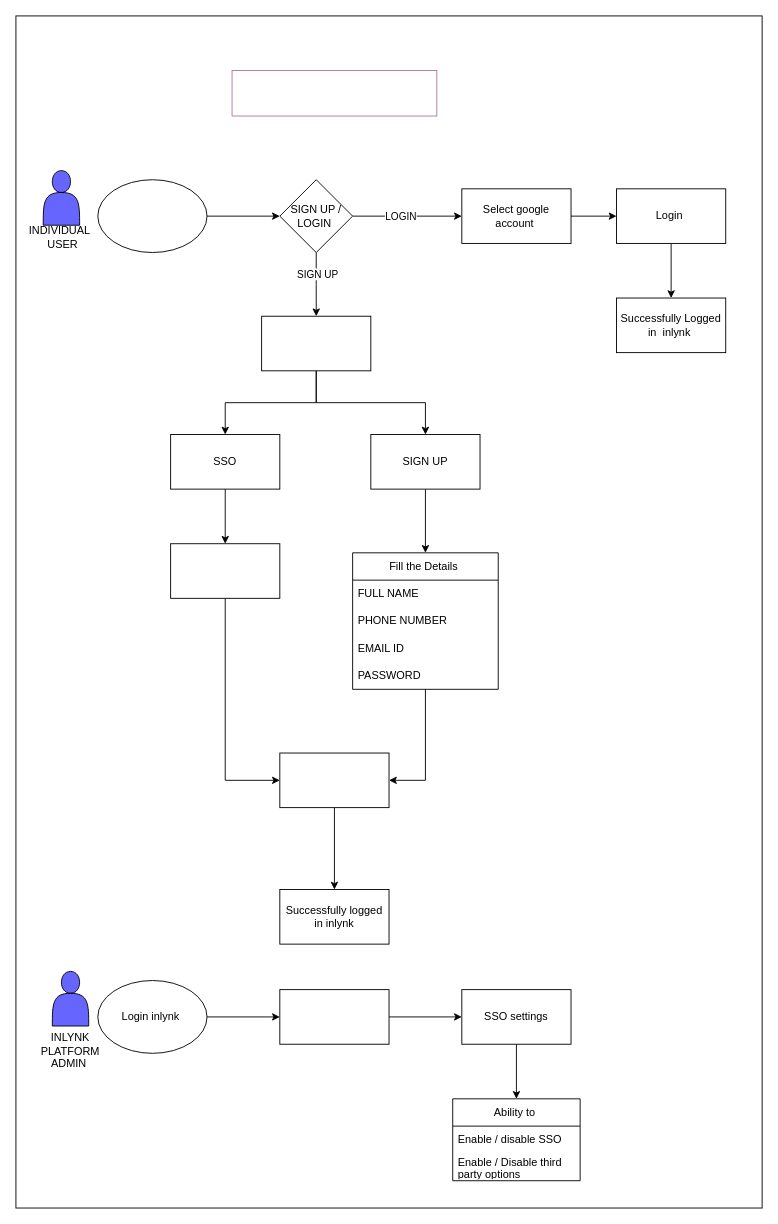
The diagram is 778 pixels wide and 1224 high, and some of its shapes have lost their labels. Here are the shapes that lost their labels. From the top down, the centre of each, then its label:
At point (334, 93): "SINGLE SIGN ON".
At point (152, 216): "Open Inlynk App".
At point (316, 343): "Individual Signup".
At point (225, 570): "Select third party options".
At point (334, 780): "Confirmation message".
At point (334, 1016): "Settings".
